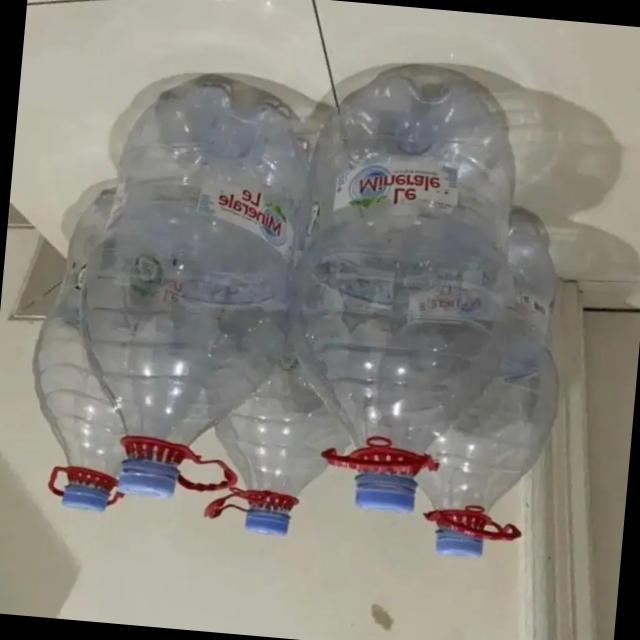Galon: (18, 51, 605, 570)
